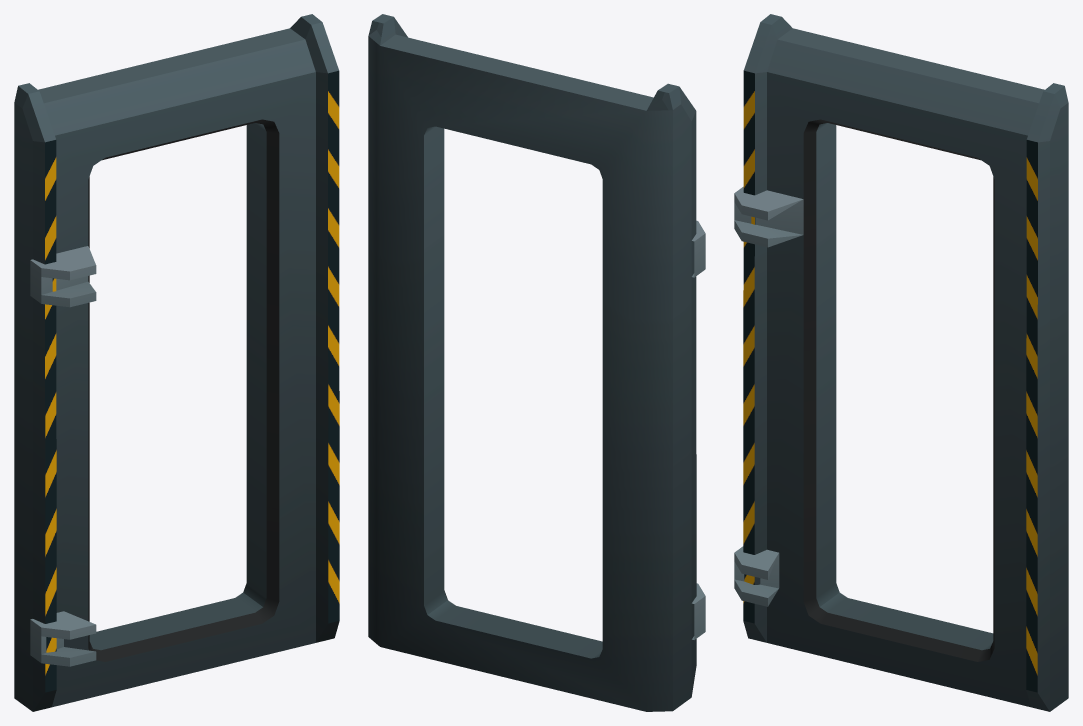
The model's file is Door_004.fbx.
The picture shows the model from 3 angles, left to right: view 1: azimuth 30°, elevation 25°; view 2: azimuth 150°, elevation 25°; view 3: azimuth 330°, elevation 25°; orthographic projection.
Visible parts, largest first — view 1: Door_004; view 2: Door_004; view 3: Door_004.
Part boxes in pixels (box(x1,y1,x2,y2)): Door_004: box(14, 14, 339, 711); Door_004: box(368, 14, 705, 711); Door_004: box(734, 14, 1068, 711).
Size of the model in its own units: 161 by 43.7 by 310.
